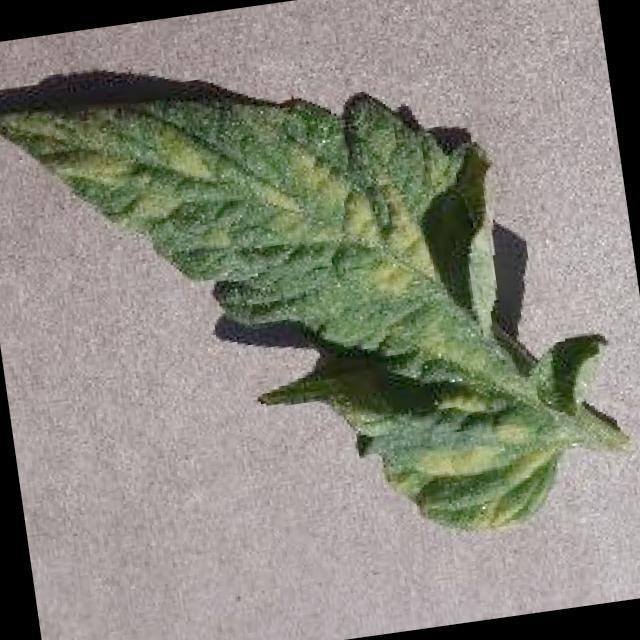Tomato mold leaf: (0, 28, 633, 597)
